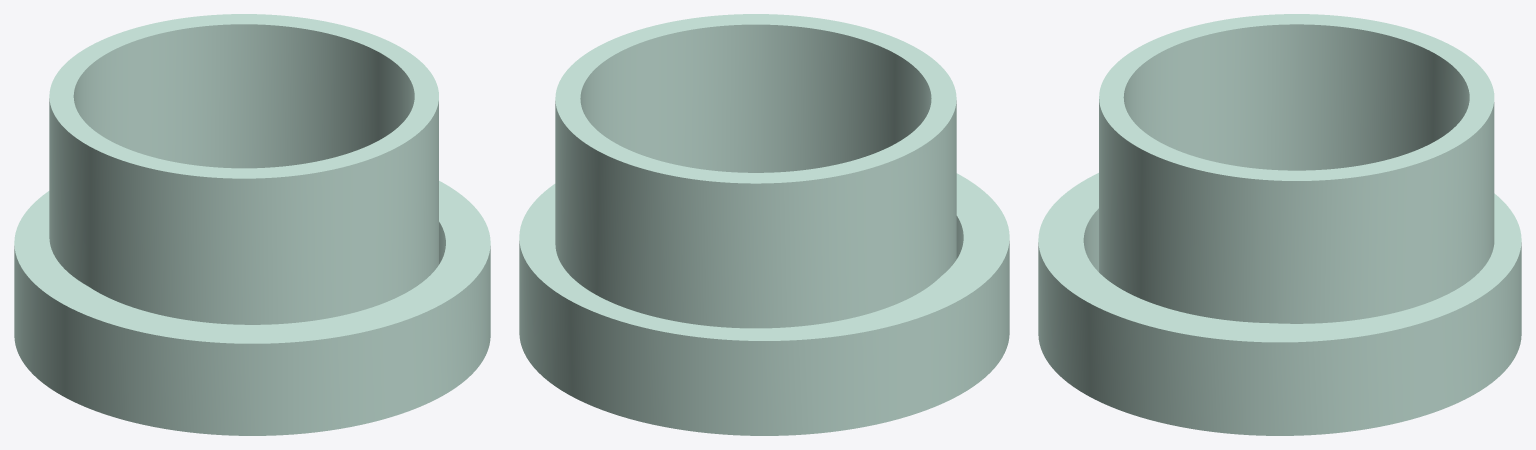
3 renders of one model, left to right at view 1: azimuth 30°, elevation 25°; view 2: azimuth 150°, elevation 25°; view 3: azimuth 270°, elevation 25°, orthographic. The views are drawn at different scales.
Parts seen in each view (by area): view 1: Renderer Node; view 2: Renderer Node; view 3: Renderer Node.
Part boxes in pixels (x1,y1,x2,y2): Renderer Node: (14, 14, 490, 435); Renderer Node: (519, 14, 1009, 435); Renderer Node: (1038, 14, 1521, 435).
Size of the model in its own units: 1.39 by 0.75 by 1.39.
